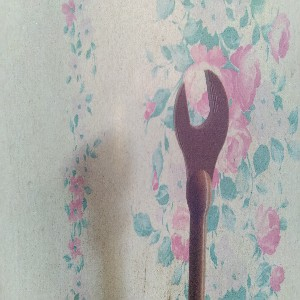spanner: (172, 69, 230, 300)
